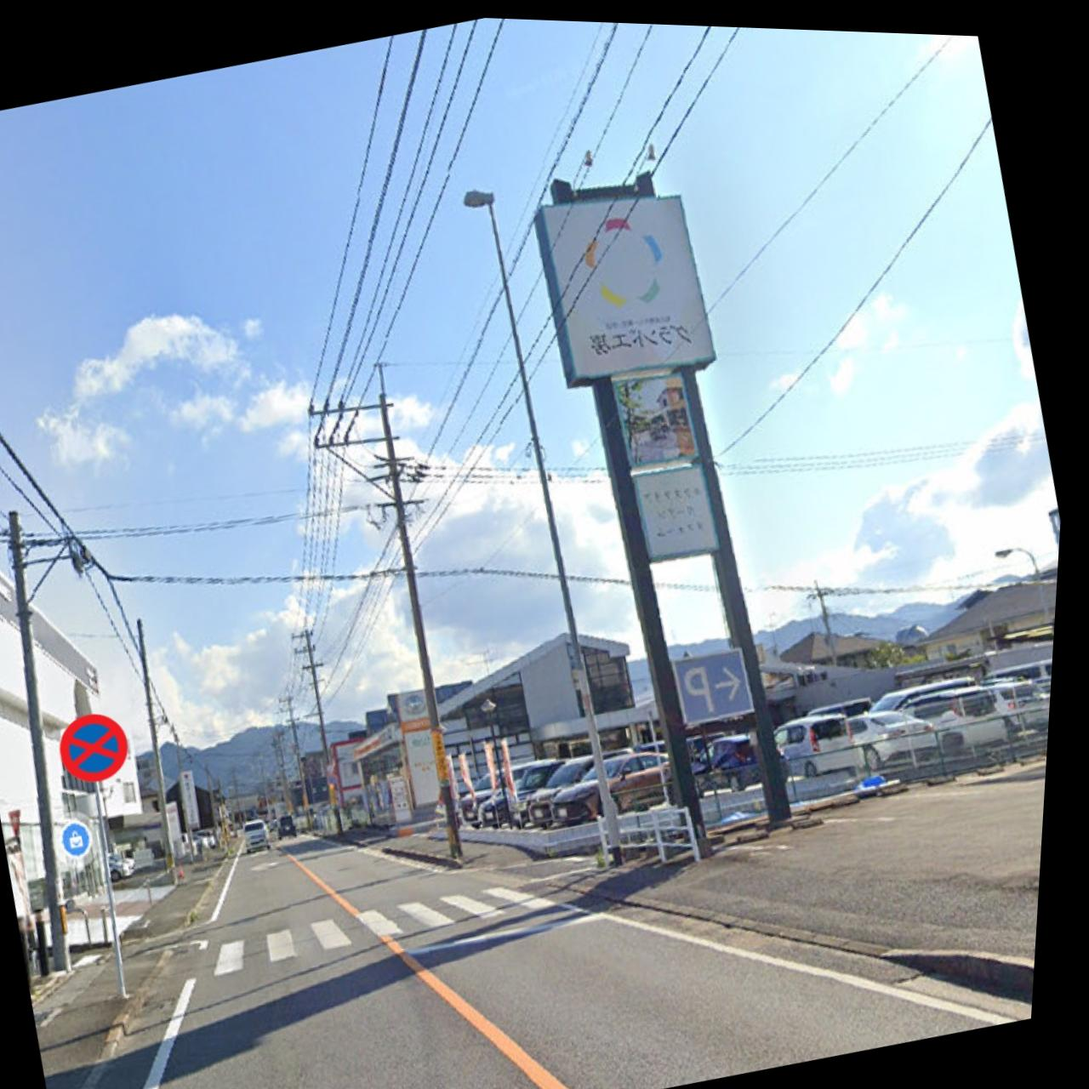stop_sign: (48, 702, 138, 791)
